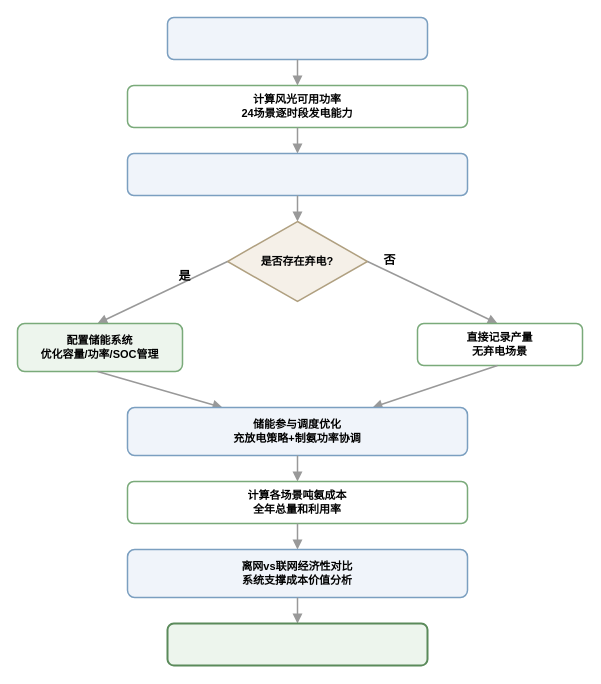
Image size: 601x684. Some labels were removed from this diagram. The shapes that lost their labels are listed below. From the top down, each one's centre as x and y in pixels, then its label:
the point at 297,38: 设定离网运行条件 无外部电网, 风光自给
the point at 297,174: 功率约束下最大制氨 负荷不超过风光发电
the point at 297,644: 输出结果 储能方案/成本对比/改善分析
